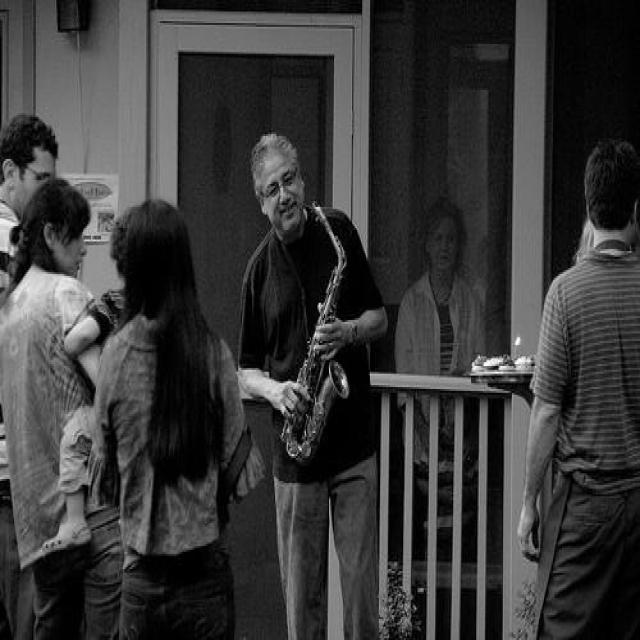saxophone: (275, 199, 356, 470)
